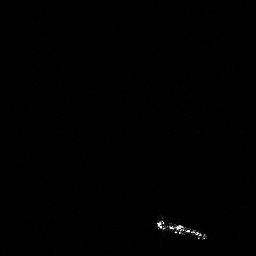ship: (152, 213, 211, 243)
